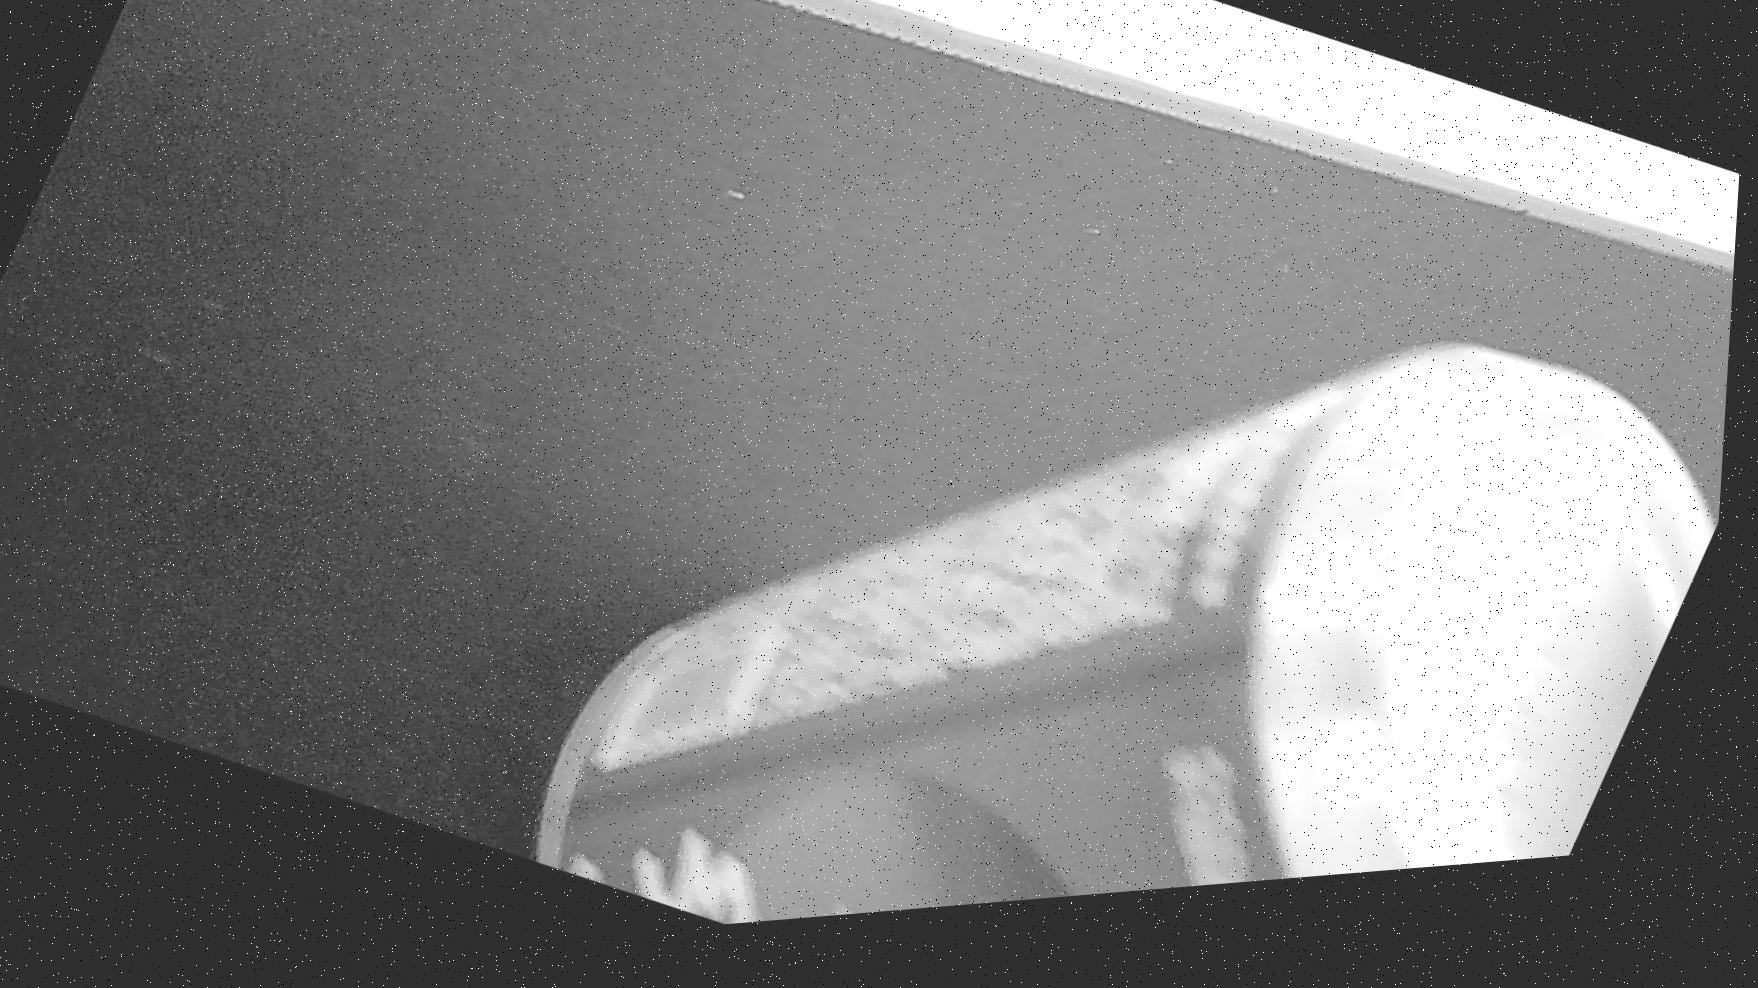letsbe: (517, 79, 1750, 952)
